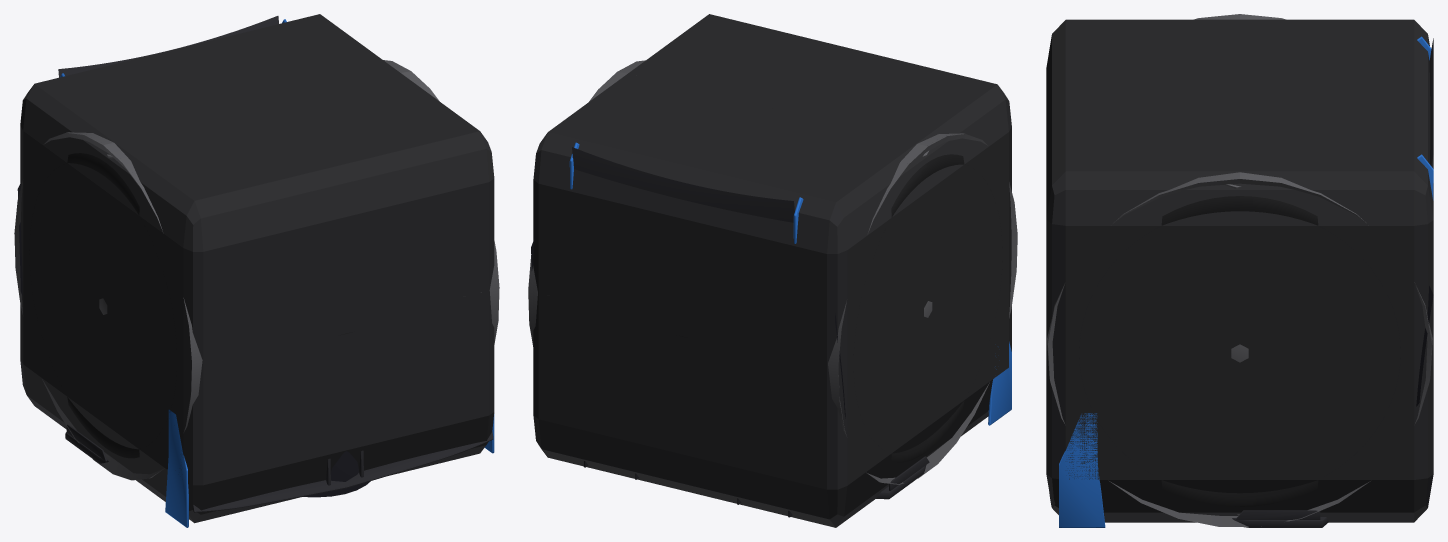
3 renders of one model, left to right at view 1: azimuth 30°, elevation 25°; view 2: azimuth 150°, elevation 25°; view 3: azimuth 270°, elevation 25°, orthographic. The views are drawn at different scales.
Visible parts, largest first — view 1: tcam, carbon, rim_FL, body, visor, tyre_FR, rim_FR, rim_RR, tyre_RR; view 2: tcam, carbon, rim_FL, body, rim_RR, tyre_FR, tyre_RR, rim_RL, rim_FR; view 3: tcam, body, rim_FR, tyre_FL, carbon, tyre_RL, rim_RR.
Part boxes in pixels (<box>): tcam: <box>20,14,494,523</box>; carbon: <box>58,16,493,512</box>; rim_FL: <box>14,133,193,480</box>; body: <box>60,19,494,527</box>; visor: <box>17,184,370,497</box>; tyre_FR: <box>29,161,345,458</box>; rim_FR: <box>99,60,499,344</box>; rim_RR: <box>69,60,410,456</box>; tyre_RR: <box>29,153,152,450</box>; tcam: <box>533,14,1011,527</box>; carbon: <box>572,147,929,517</box>; rim_FL: <box>838,133,1017,484</box>; body: <box>569,142,1011,425</box>; rim_RR: <box>528,71,962,419</box>; tyre_FR: <box>878,154,1002,454</box>; tyre_RR: <box>853,163,1002,462</box>; rim_RL: <box>836,134,1017,482</box>; rim_FR: <box>532,60,932,328</box>; tcam: <box>1046,19,1433,522</box>; body: <box>1059,36,1433,527</box>; rim_FR: <box>1047,172,1432,526</box>; tyre_FL: <box>1079,196,1357,506</box>; carbon: <box>1049,38,1433,527</box>; tyre_RL: <box>1122,196,1400,506</box>; rim_RR: <box>1048,15,1432,526</box>.
Bounding box in the file's own units: 65536 × 65534 × 65537.
